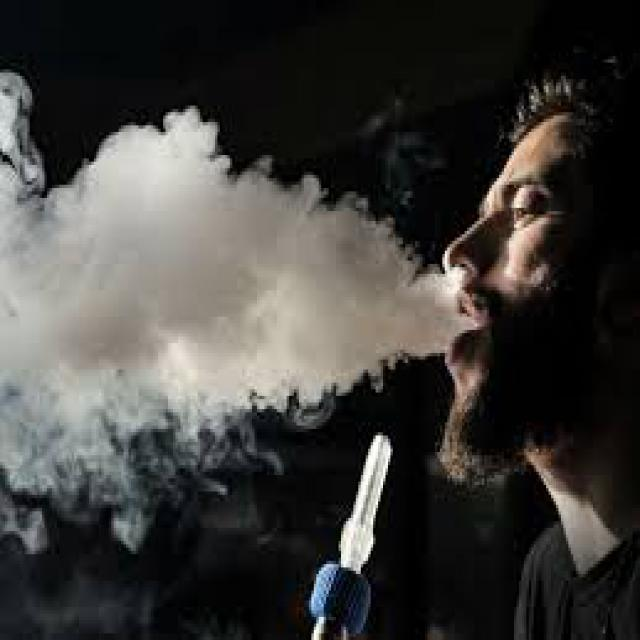smoke: (2, 96, 442, 468)
